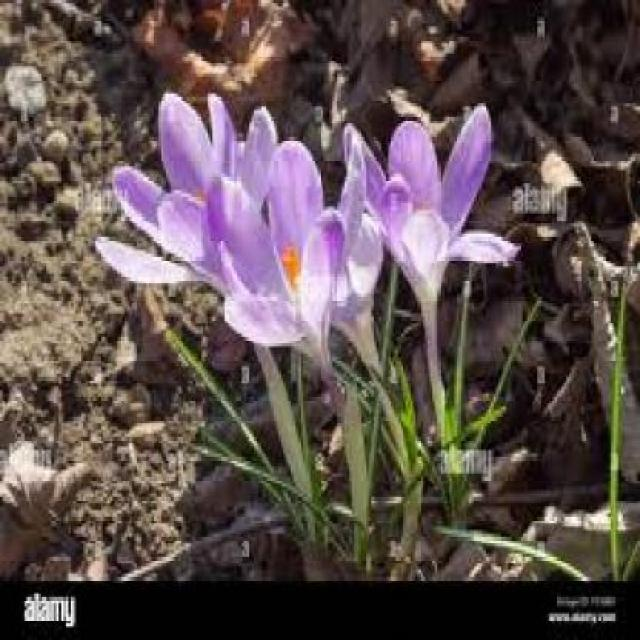saffron open: (365, 105, 518, 408), (208, 140, 344, 346)
